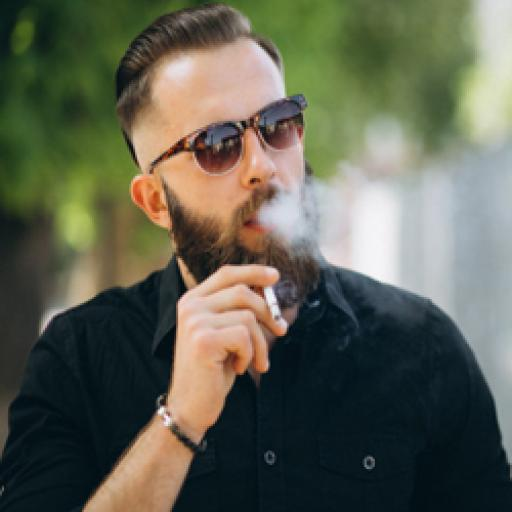terdeteksi pegang rokok: (189, 228, 293, 386)
